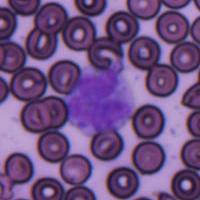M: (64, 67, 136, 135)
